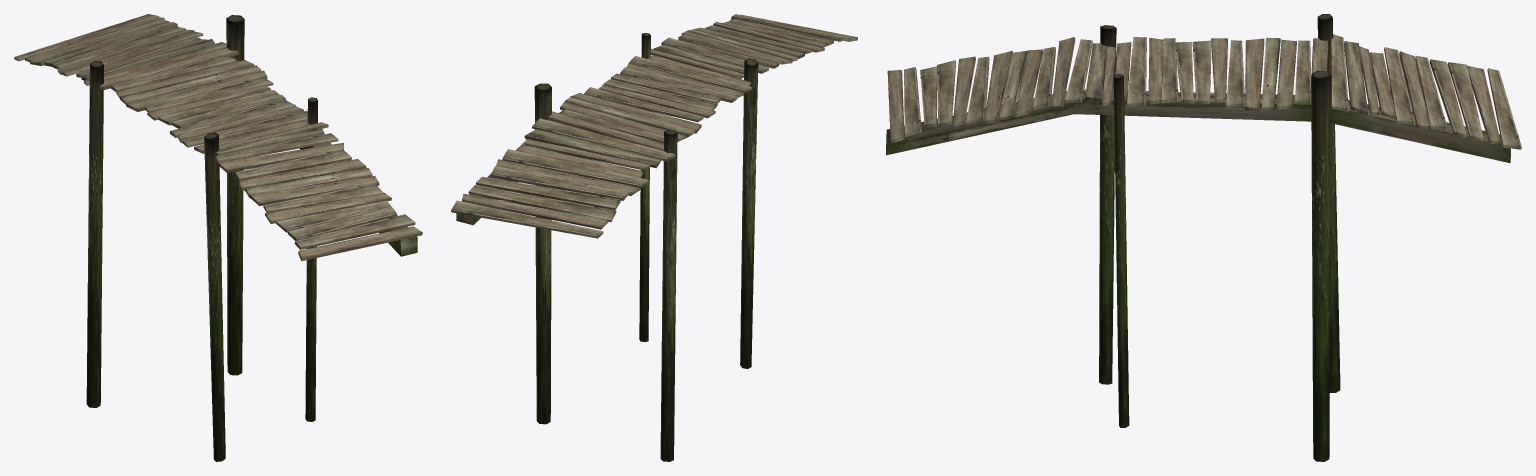
The model's file is pier_small_wood_bridge.fbx.
3 views of the same model, side by side, from view 1: azimuth 30°, elevation 25°; view 2: azimuth 150°, elevation 25°; view 3: azimuth 270°, elevation 25° (orthographic). The views are drawn at different scales.
Parts seen in each view (by area): view 1: pylon_5, pylon_23, pylon_13, pylon_14, plank_92.002, plank_85.001, plank_90.002, plank_64.001, plank_61.001, plank_91.002, plank_60.001, plank_88.002 (+30 smaller); view 2: pylon_5, pylon_23, pylon_13, pylon_14, plank_84.001, plank_86.001, plank_88.001, plank_89.001, plank_91.001, plank_92.001, plank_62.001, plank_66.001 (+29 smaller); view 3: supports, pylon_13, pylon_23, pylon_14, pylon_5, plank_88.001, plank_86.001, plank_84.001, plank_85, plank_89.001, plank_85.001, plank_66.001 (+28 smaller).
Boxes of the visible parts, box(x1,y1,x2,y2) form: pylon_5: box(86, 61, 103, 407); pylon_23: box(204, 132, 225, 461); pylon_13: box(226, 15, 244, 375); pylon_14: box(305, 97, 317, 421); plank_92.002: box(294, 214, 415, 249); plank_85.001: box(249, 176, 379, 206); plank_90.002: box(298, 226, 422, 261); plank_64.001: box(234, 149, 351, 180); plank_61.001: box(239, 159, 366, 190); plank_91.002: box(265, 193, 391, 223); plank_60.001: box(218, 143, 343, 172); plank_88.002: box(276, 200, 392, 232); pylon_5: box(660, 130, 677, 461); pylon_23: box(740, 58, 758, 368); pylon_13: box(534, 83, 551, 424); pylon_14: box(639, 33, 650, 342); plank_84.001: box(451, 200, 603, 238); plank_86.001: box(502, 149, 647, 187); plank_88.001: box(468, 185, 616, 221); plank_89.001: box(476, 176, 620, 209); plank_91.001: box(462, 193, 608, 229); plank_92.001: box(491, 166, 628, 200); plank_62.001: box(532, 118, 675, 161); plank_66.001: box(524, 129, 661, 168); supports: box(886, 89, 1510, 162); pylon_13: box(1311, 70, 1331, 461); pylon_23: box(1099, 25, 1116, 384); pylon_14: box(1113, 74, 1129, 427); pylon_5: box(1317, 14, 1340, 392); plank_88.001: box(1447, 62, 1483, 141); plank_86.001: box(1384, 47, 1415, 125); plank_84.001: box(1487, 68, 1521, 149); plank_85: box(1245, 38, 1264, 111); plank_89.001: box(1429, 59, 1466, 137); plank_85.001: box(984, 50, 1012, 124); plank_66.001: box(1344, 41, 1368, 115).
Size of the model in its own units: 3215 by 7235 by 10737.
Materials: 2 (2 with a texture image).
